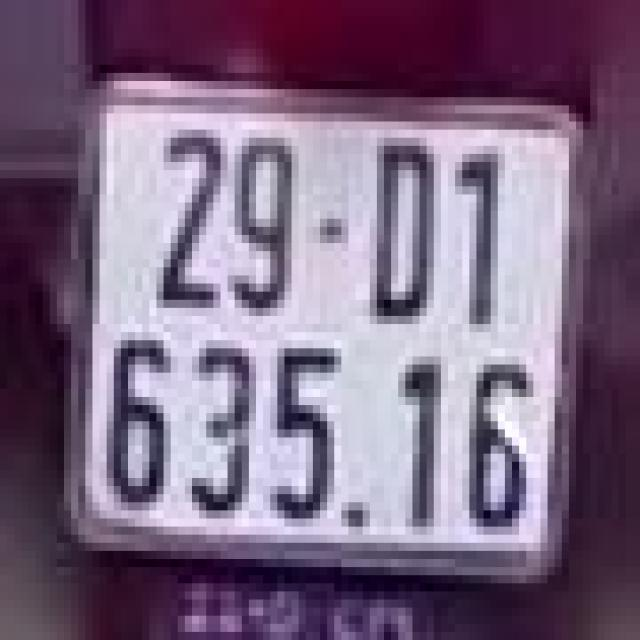1: (380, 336, 444, 531), (452, 138, 508, 324)
2: (146, 117, 231, 320)
3: (188, 324, 266, 519)
5: (89, 320, 188, 523), (267, 340, 345, 527)
6: (448, 340, 548, 551)
9: (231, 122, 309, 324)
D: (356, 126, 434, 336)
